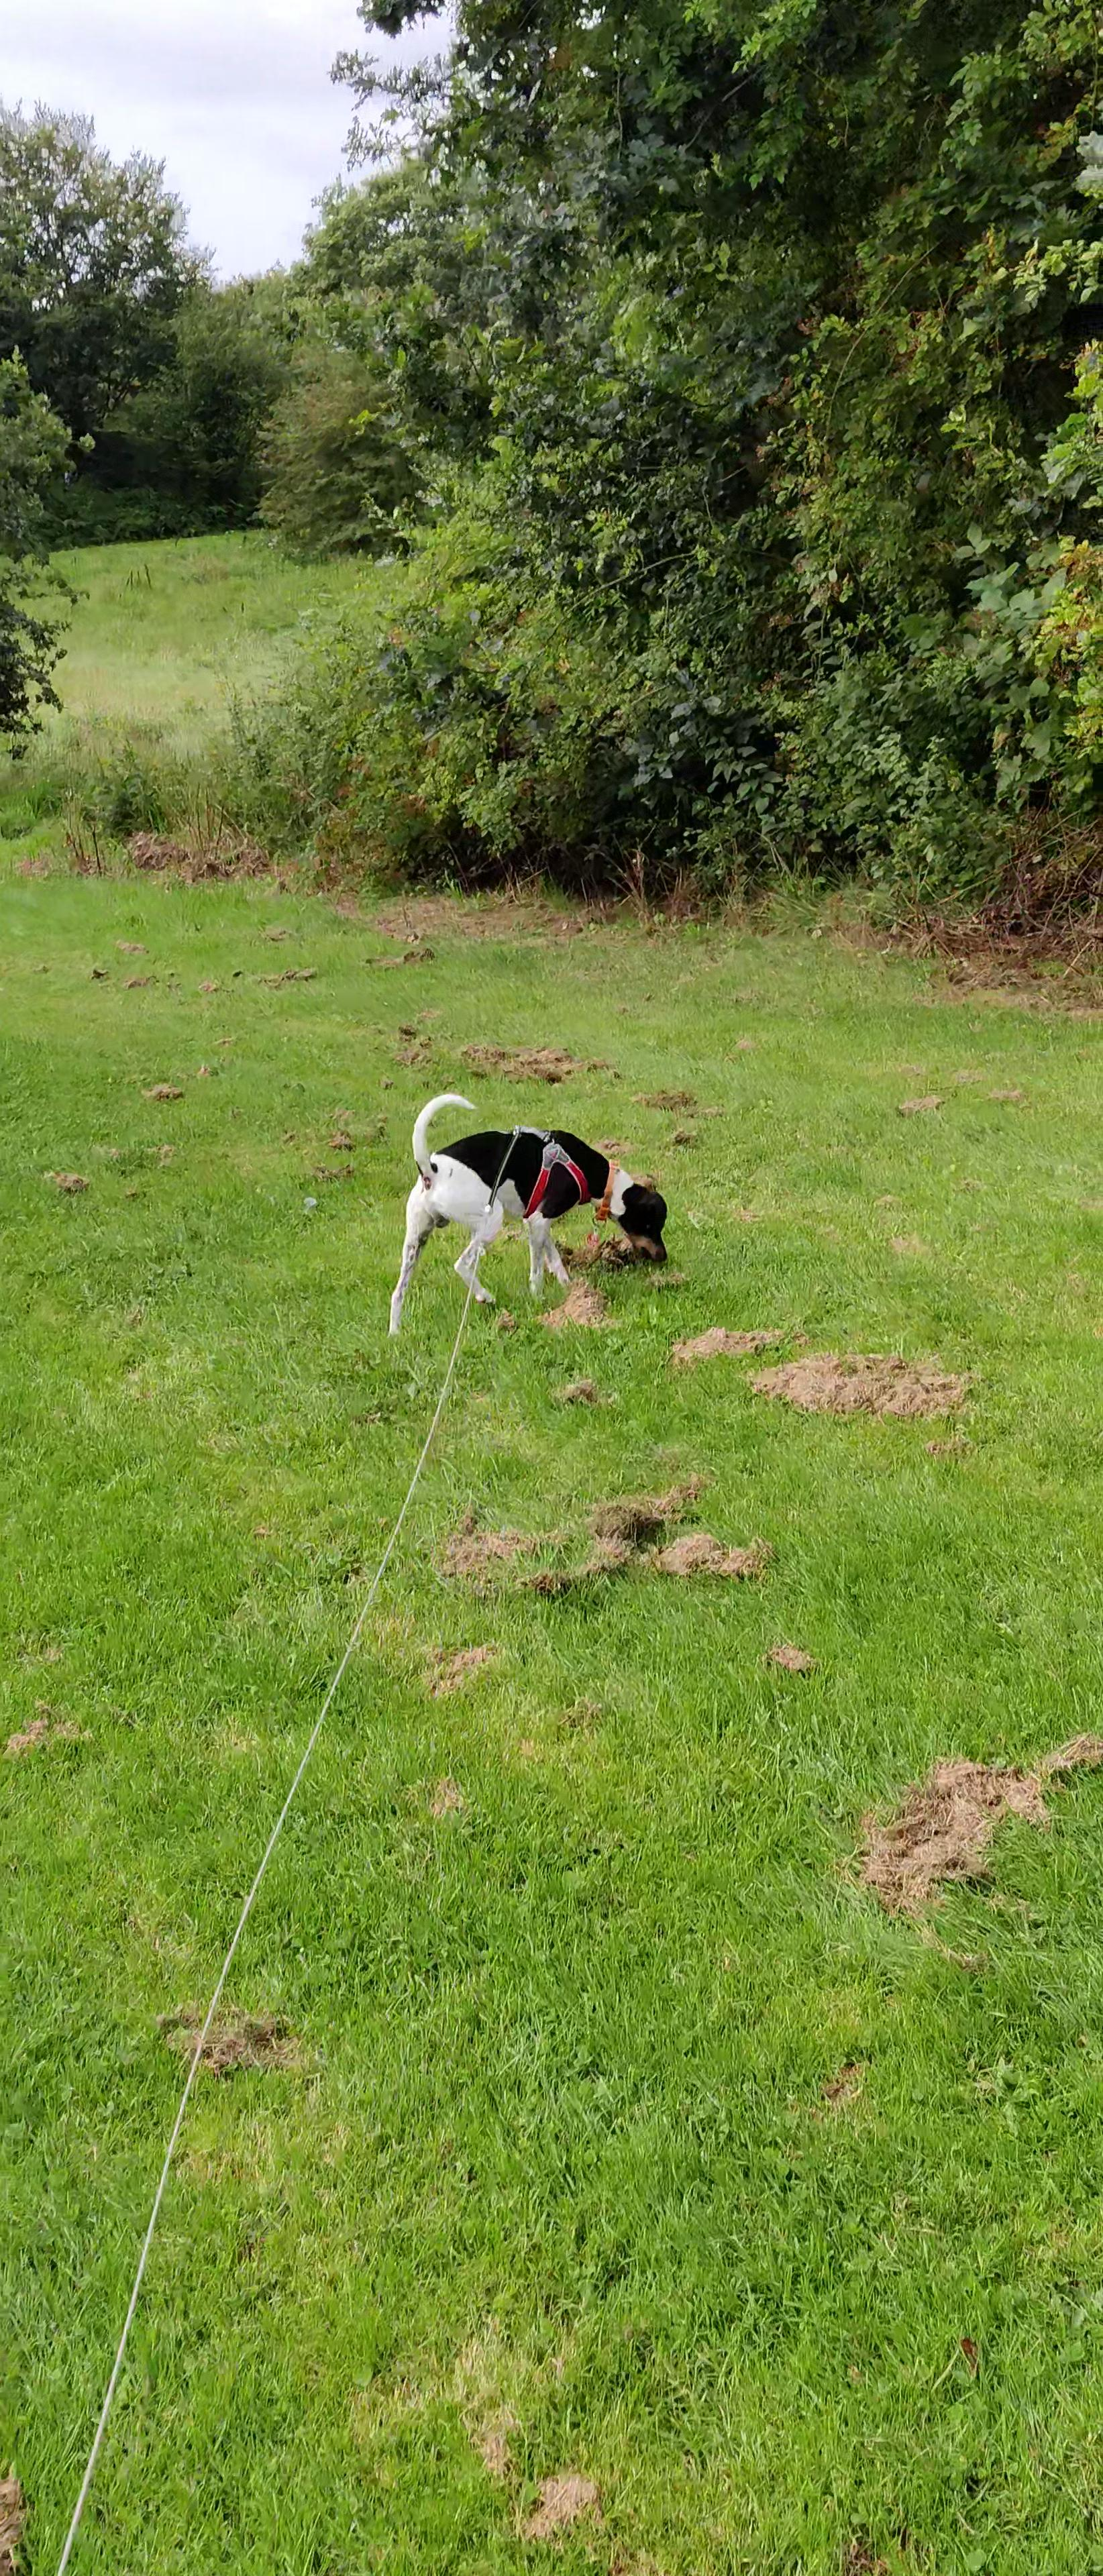Dog: (383, 1091, 671, 1347)
